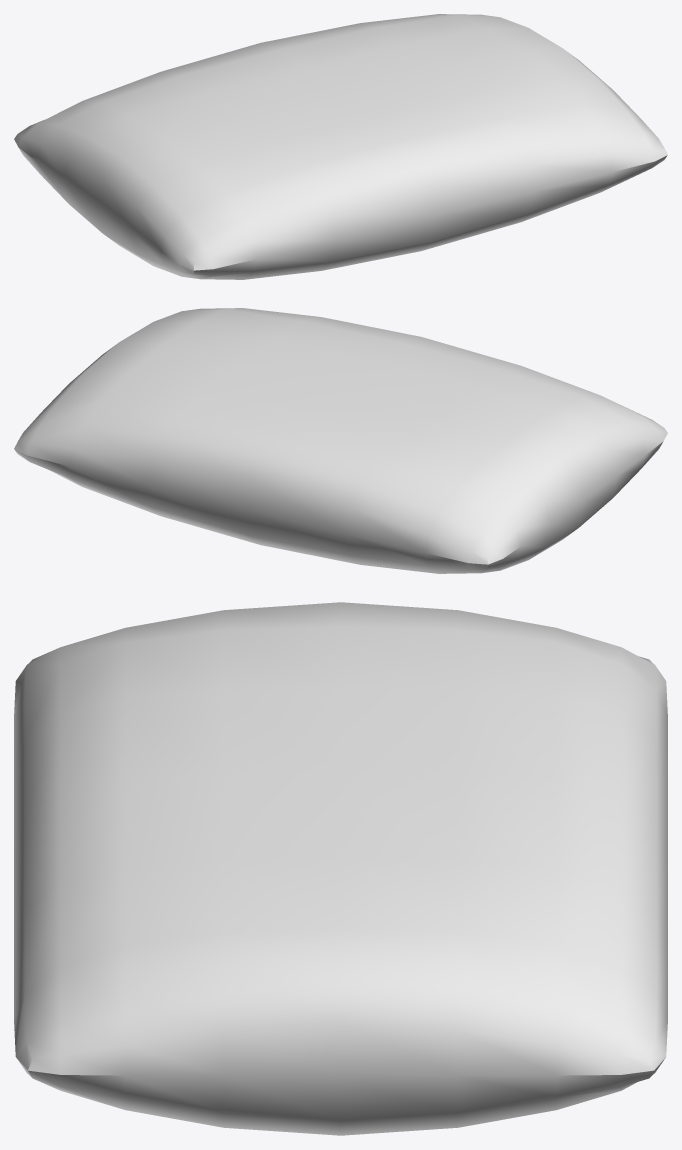
File: Pillow_02.fbx
The picture shows the model from 3 angles, top to bottom: view 1: azimuth 30°, elevation 25°; view 2: azimuth 150°, elevation 25°; view 3: azimuth 270°, elevation 25°; orthographic projection. The views are drawn at different scales.
Visible parts, largest first — view 1: Pillow_02; view 2: Pillow_02; view 3: Pillow_02.
Boxes of the visible parts, x1,y1,x2,y2 form: Pillow_02: (14, 14, 667, 279); Pillow_02: (14, 308, 667, 573); Pillow_02: (14, 602, 667, 1135).
Size of the model in its own units: 54.65 by 11.75 by 36.55.
